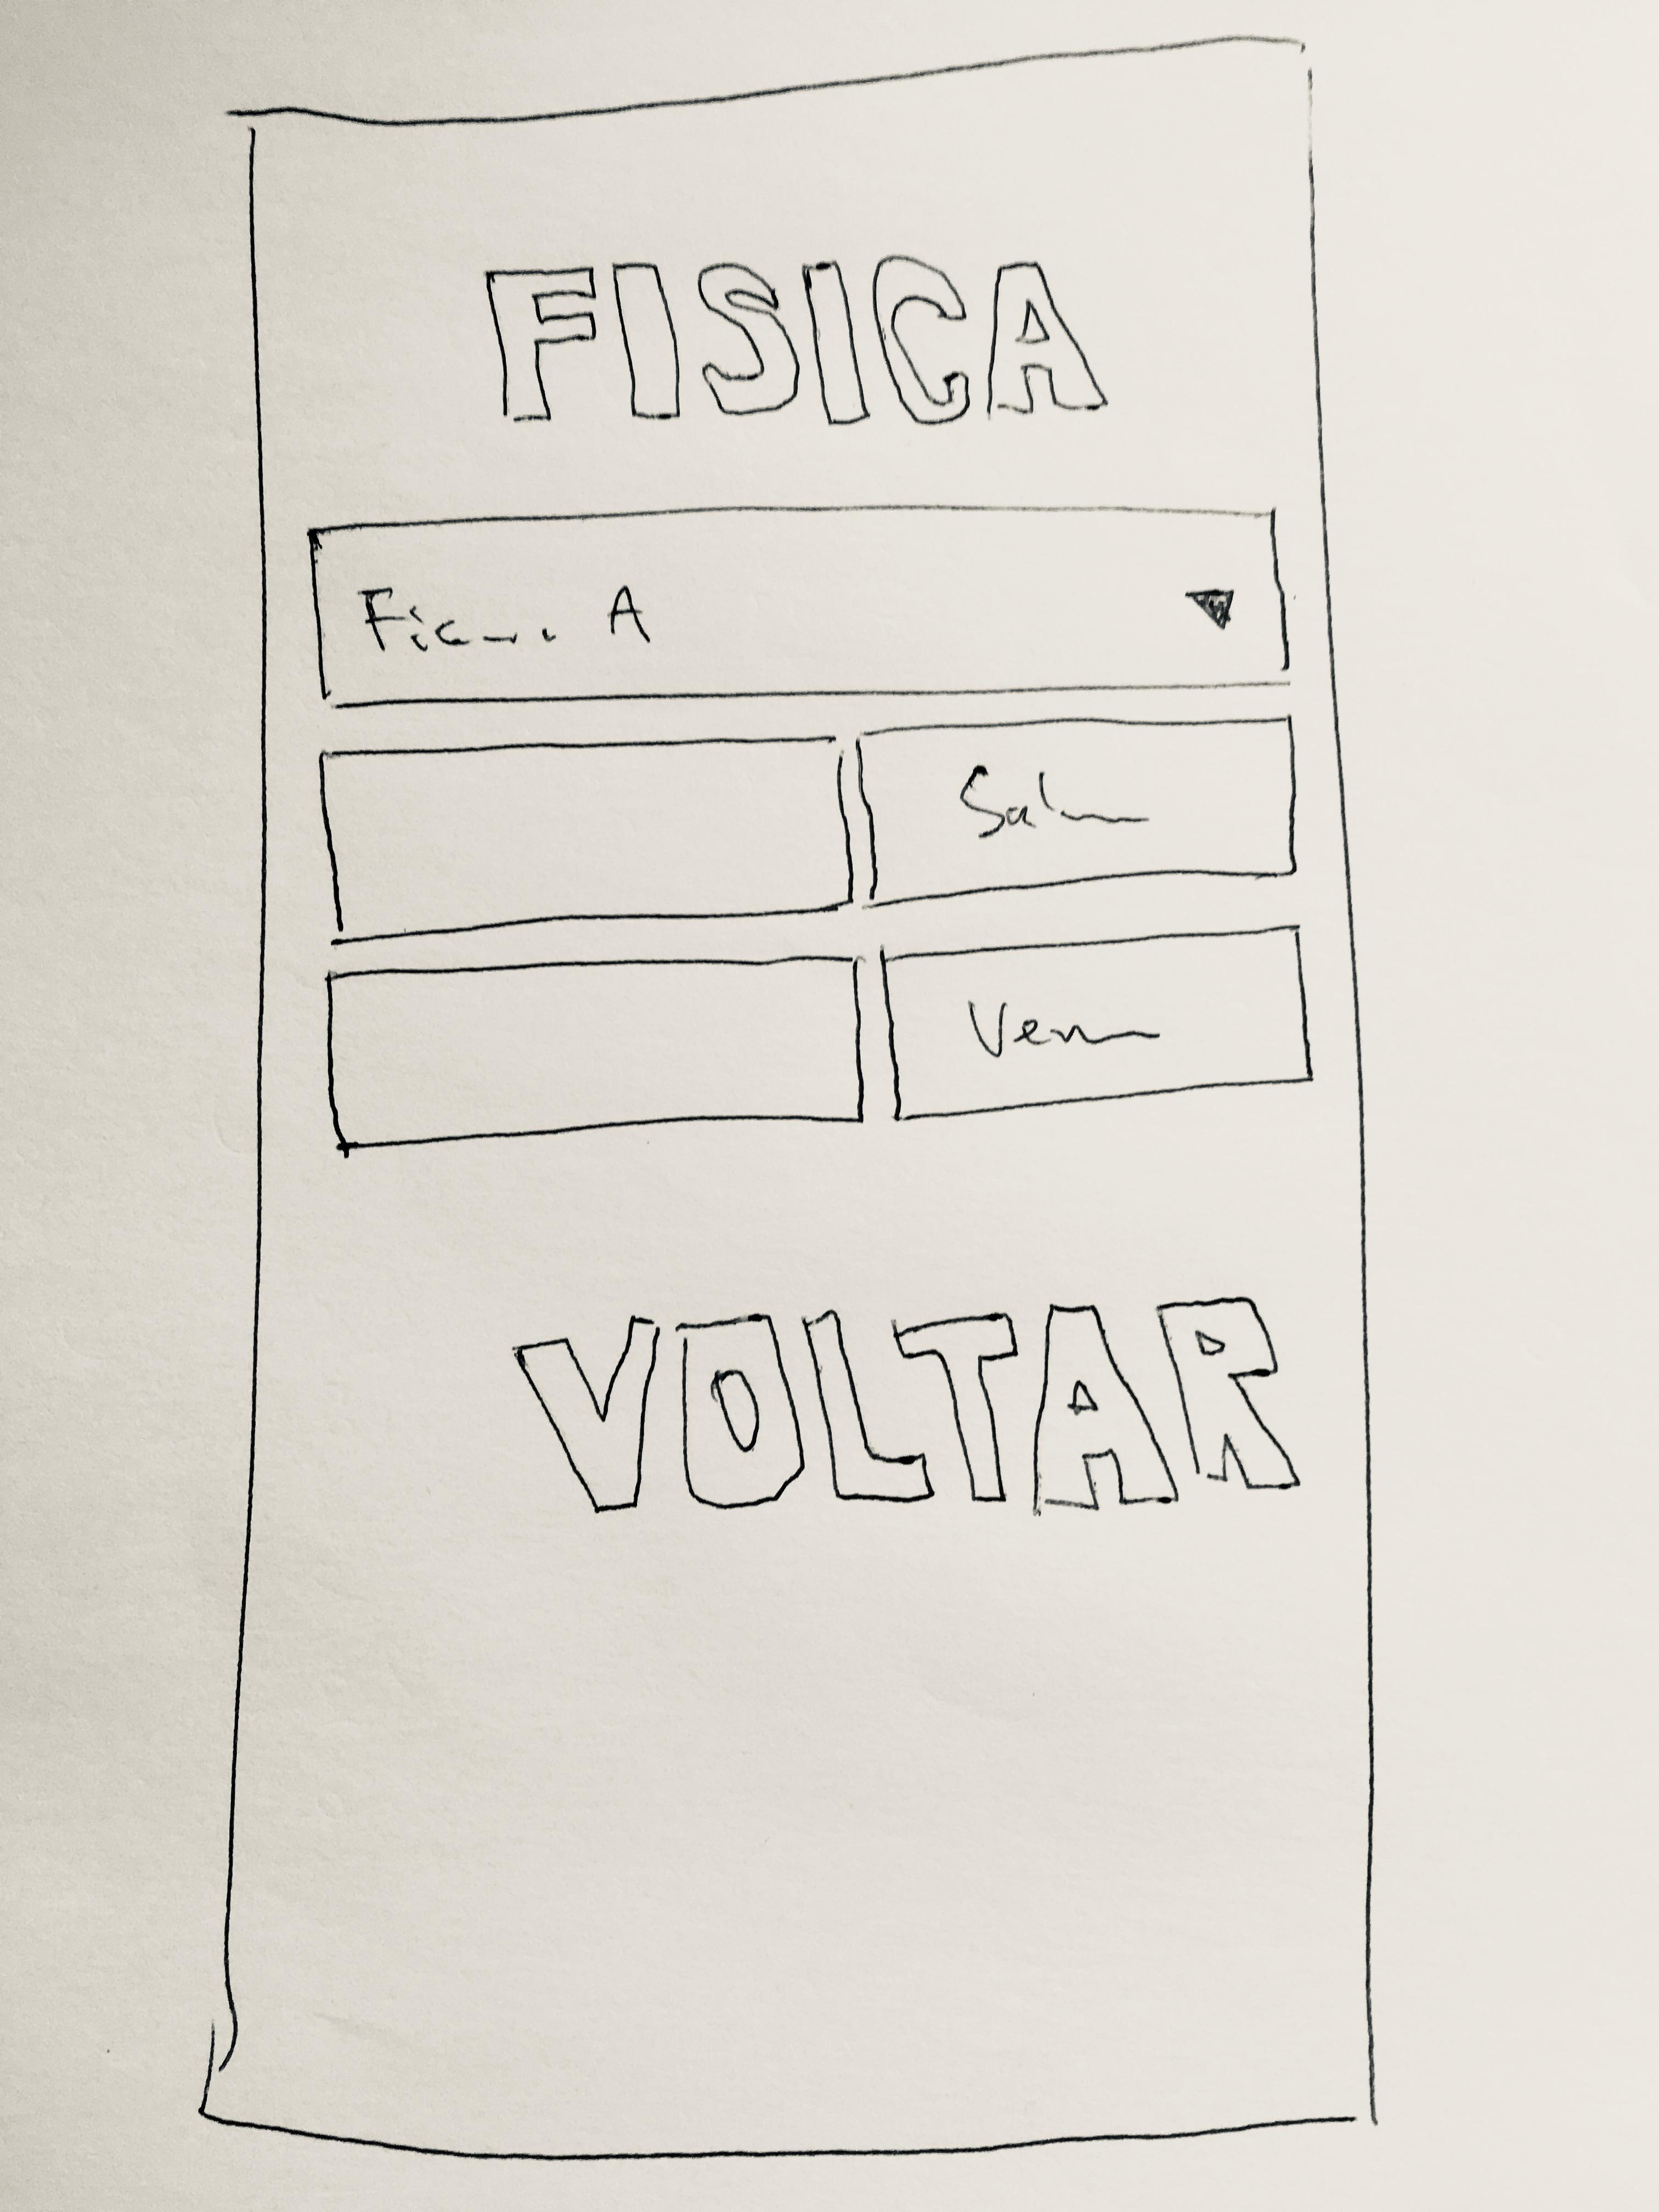Button: (858, 715, 1299, 909), (884, 925, 1314, 1122)
Label: (515, 1299, 1300, 1511), (484, 258, 1108, 424)
ListPicker: (308, 506, 1294, 710)
Screen: (201, 37, 1374, 2161)
TextBox: (321, 736, 853, 944), (328, 956, 865, 1154)
